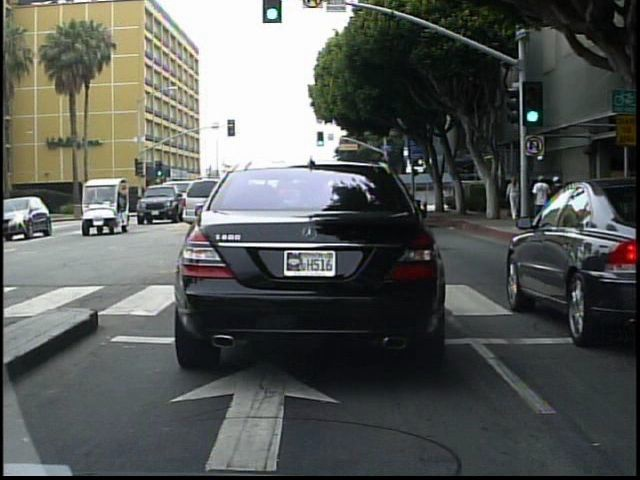person: (551, 171, 576, 231), (529, 174, 554, 231), (505, 174, 522, 222), (436, 183, 450, 212)
